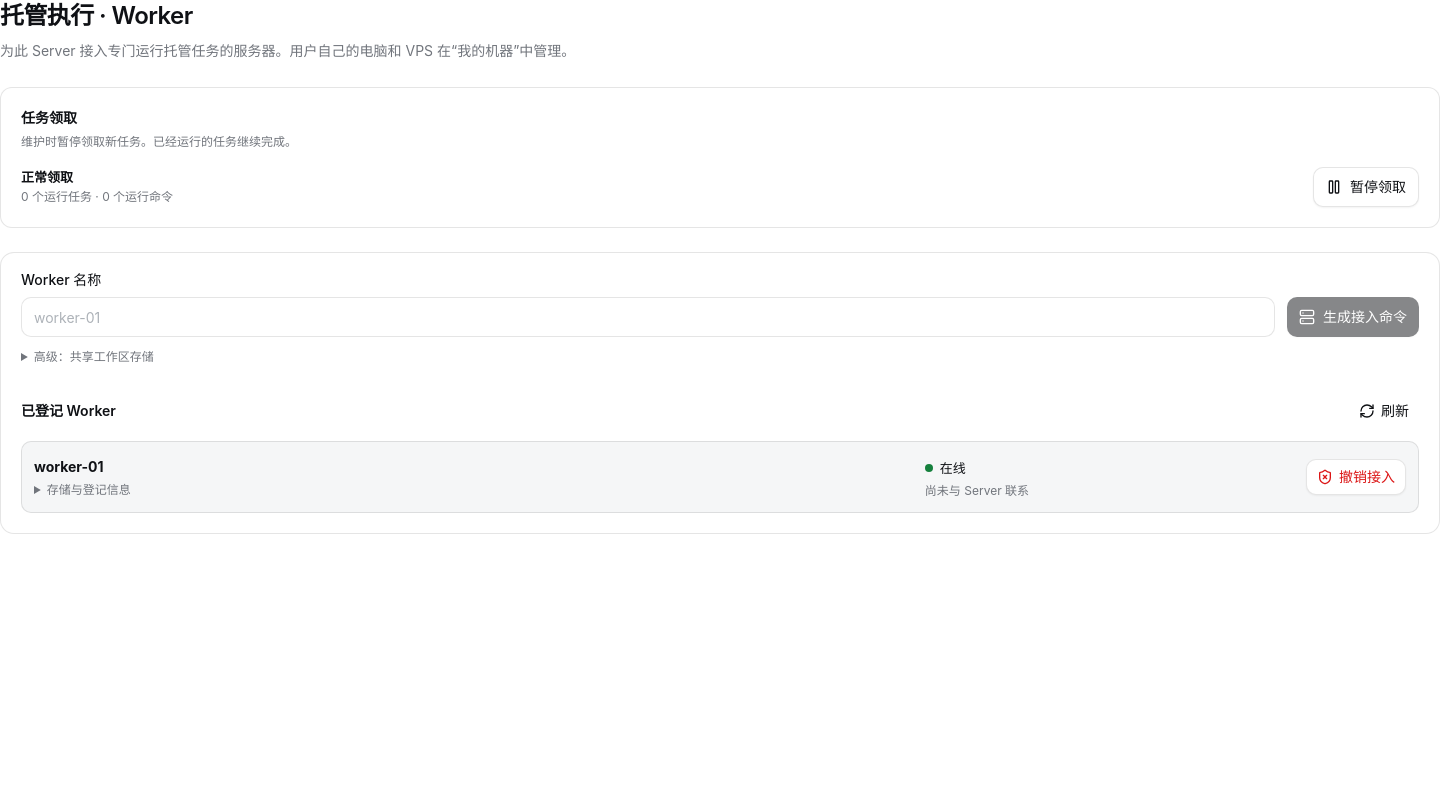
Test case: Instance Worker settings › requires a concrete confirmation before revoking the selected Worker
Click the button "撤销接入": [1356, 477] box [1306,459,1406,495]
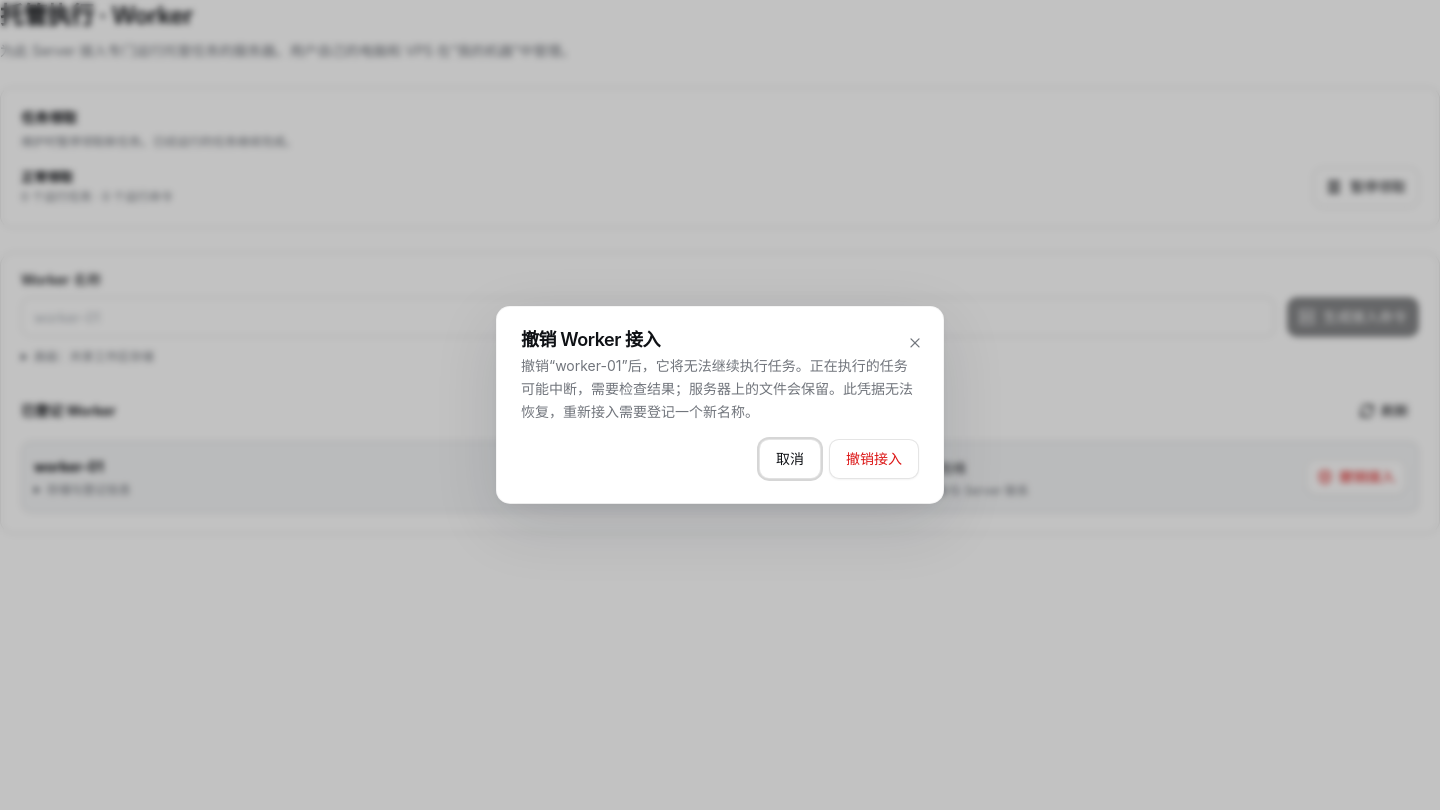
Result: the dialog shows "正在执行的任务可能中断" at [521,357,913,419]
Click the button "撤销接入": [874, 459] box [829,439,919,479]
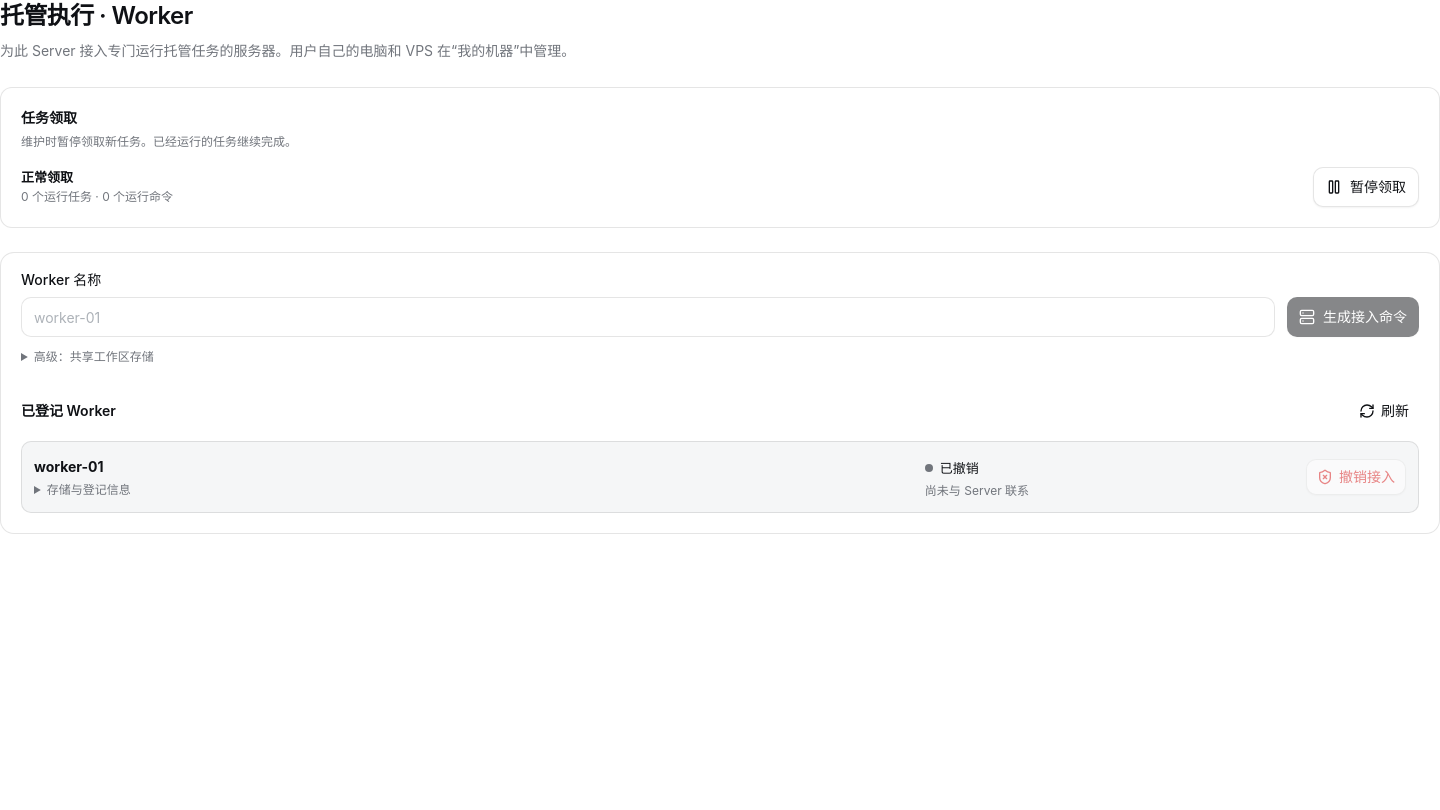
Result: the dialog is gone
Result: the element showing "worker-01 存储与登记信息 已撤销 尚未与 Server 联系 撤销接入" is shown at [21,441,1419,513]
